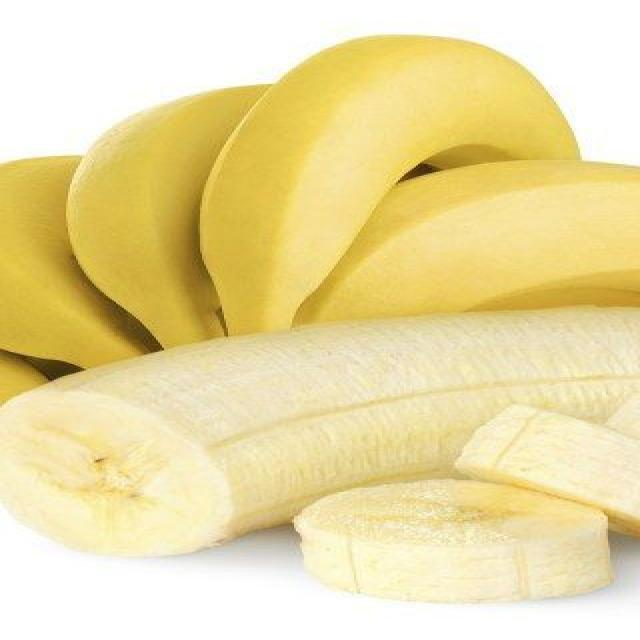banana: (0, 308, 639, 554), (202, 36, 577, 333), (296, 160, 639, 322), (68, 86, 265, 347), (294, 480, 611, 602), (0, 156, 149, 366), (456, 406, 639, 535), (0, 351, 47, 402), (606, 395, 639, 441)
